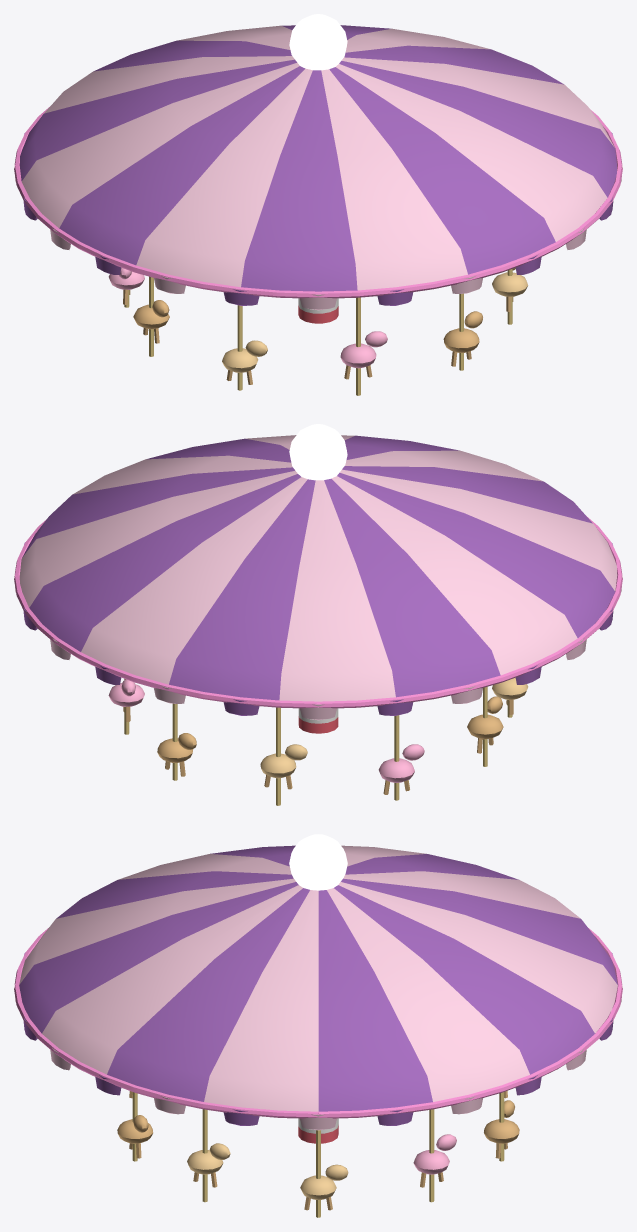
Rendered from Carousel_Top.fbx.
3 views of the same model, one above another, from view 1: azimuth 30°, elevation 25°; view 2: azimuth 150°, elevation 25°; view 3: azimuth 270°, elevation 25° (orthographic).
Visible parts, largest first — view 1: Carousel_Top; view 2: Carousel_Top; view 3: Carousel_Top.
Part boxes in pixels (x1,y1,x2,y2): Carousel_Top: (14,14,622,395); Carousel_Top: (14,424,622,805); Carousel_Top: (14,834,622,1217).
Size of the model in its own units: 33.19 by 17.95 by 33.19.
